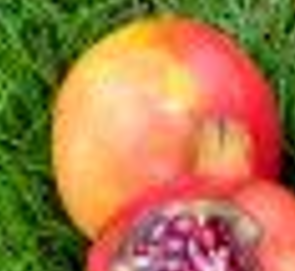pomegranate_B: (50, 13, 284, 247)
